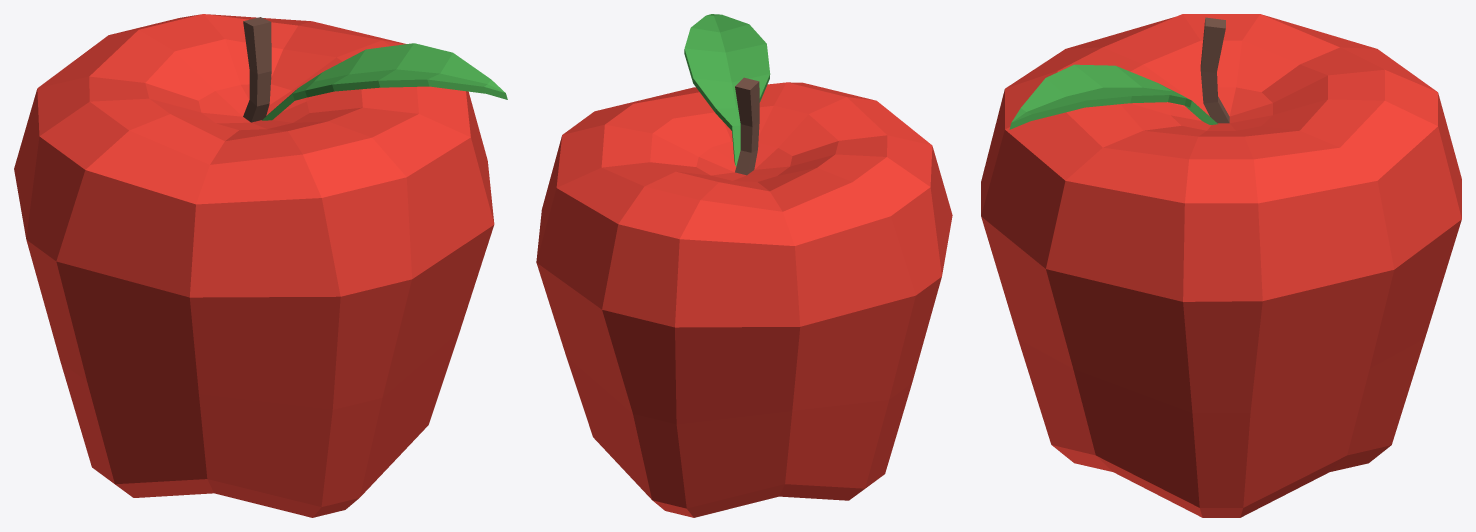
Rendered from Apple_01.obj.
The picture shows the model from 3 angles, left to right: view 1: azimuth 30°, elevation 25°; view 2: azimuth 150°, elevation 25°; view 3: azimuth 270°, elevation 25°; orthographic projection. The views are drawn at different scales.
Parts seen in each view (by area): view 1: Cube.026_Cube; view 2: Cube.026_Cube; view 3: Cube.026_Cube.
Part boxes in pixels (left/top/right/bottom): Cube.026_Cube: left=14, top=14, right=507, bottom=517; Cube.026_Cube: left=536, top=14, right=952, bottom=517; Cube.026_Cube: left=981, top=14, right=1461, bottom=517.
Size of the model in its own units: 9.96 by 9.84 by 9.88.
